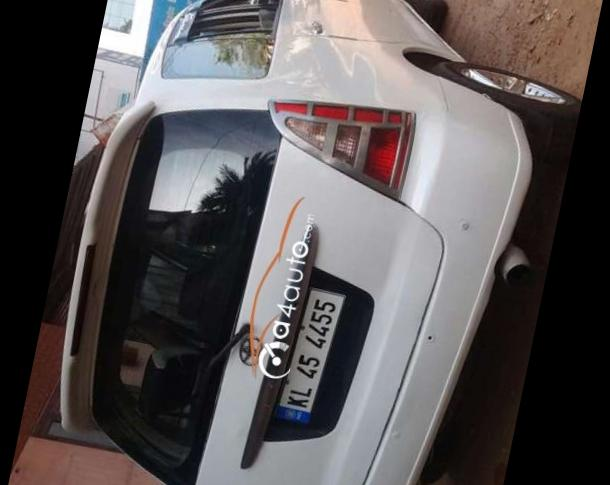plate: (262, 264, 370, 444)
